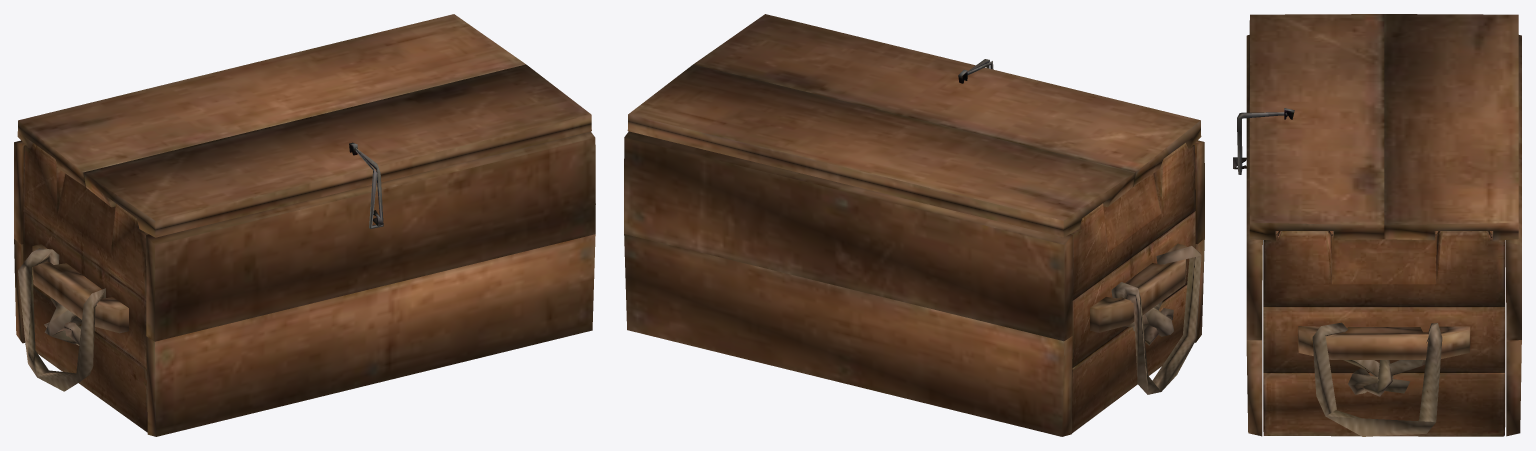
The model's file is wooden_crate_01.glb.
3 renders of one model, left to right at view 1: azimuth 30°, elevation 25°; view 2: azimuth 150°, elevation 25°; view 3: azimuth 270°, elevation 25°, orthographic. The views are drawn at different scales.
Parts seen in each view (by area): view 1: wooden_crate_01_lid; view 2: wooden_crate_01_lid; view 3: wooden_crate_01_lid.
Boxes of the visible parts, x1,y1,x2,y2 form: wooden_crate_01_lid: (14,14,595,436); wooden_crate_01_lid: (624,14,1204,436); wooden_crate_01_lid: (1233,14,1521,436).
Bounding box in the file's own units: 0.8207 × 0.3469 × 0.4043.
Materials: 1 (1 with a texture image).
